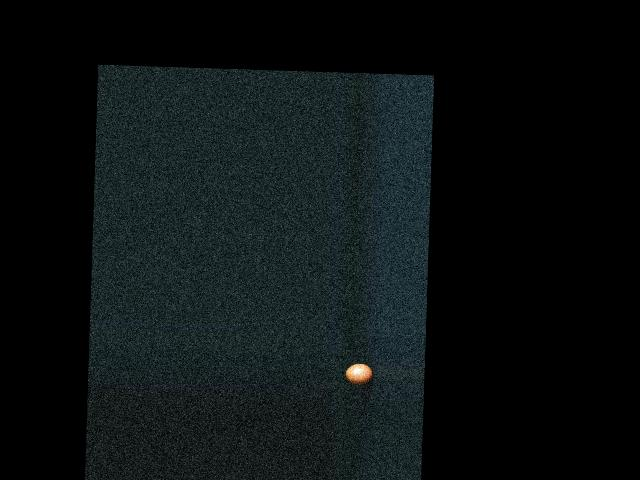egg: (345, 363, 373, 385)
